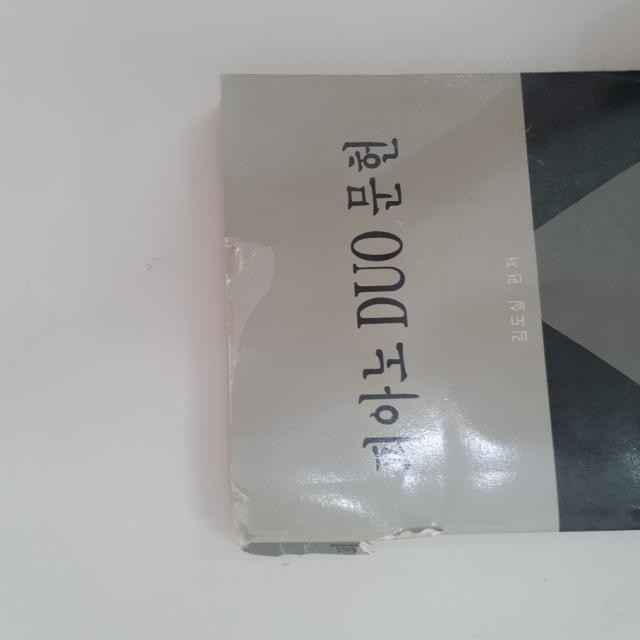Ripped: (221, 230, 280, 425), (220, 514, 462, 560)
Wornout: (223, 465, 259, 514)
